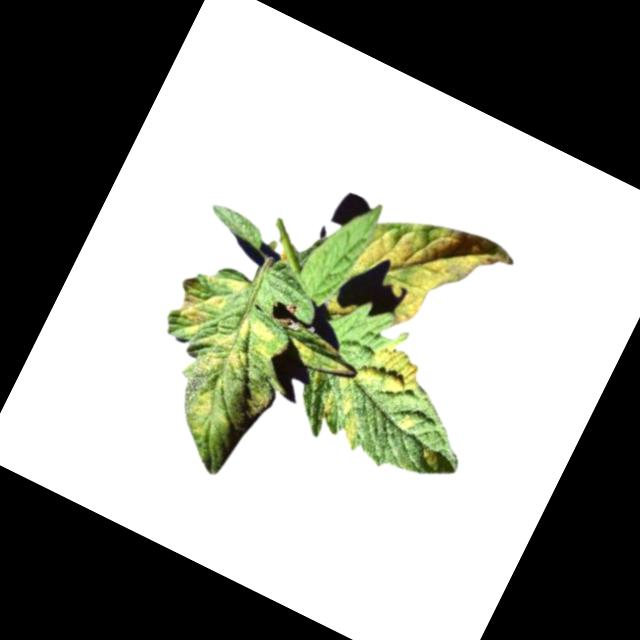Leaf_Mold: (341, 190, 520, 358), (190, 299, 294, 403), (163, 256, 249, 348), (351, 331, 428, 406), (181, 384, 240, 446), (325, 397, 373, 449), (417, 443, 441, 466)
